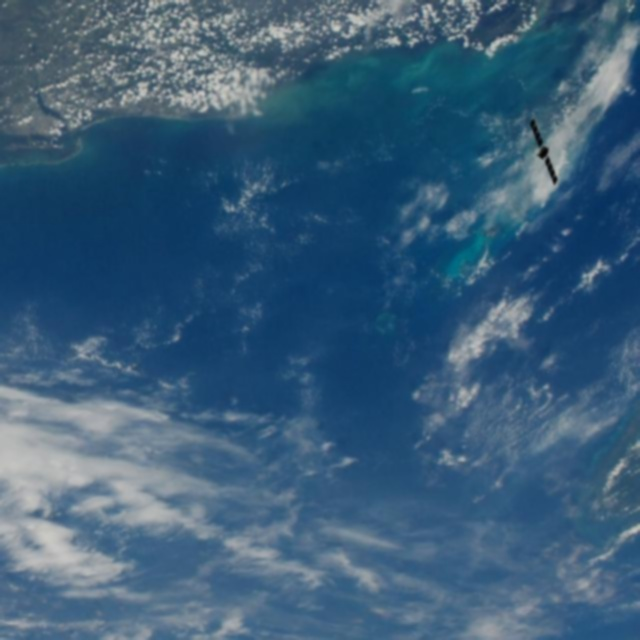satellite: (514, 112, 570, 190)
